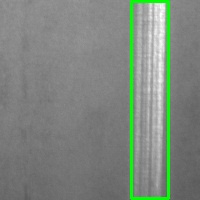scratches: (131, 1, 168, 198)
